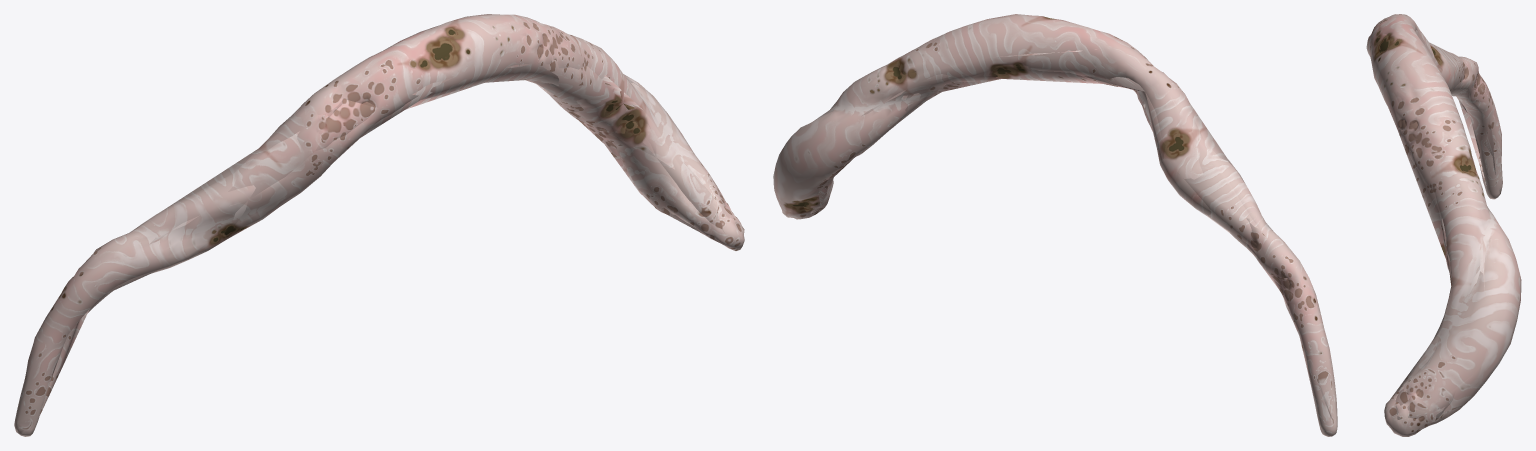
File: rootSmall.FBX
3 views of the same model, side by side, from view 1: azimuth 30°, elevation 25°; view 2: azimuth 150°, elevation 25°; view 3: azimuth 270°, elevation 25° (orthographic). The views are drawn at different scales.
Parts seen in each view (by area): view 1: root_smal_LOD0, root_smal_COL; view 2: root_smal_LOD0, root_smal_COL; view 3: root_smal_LOD0, root_smal_COL.
Part boxes in pixels (<box>): root_smal_LOD0: <box>14,14,744,436</box>; root_smal_COL: <box>38,19,744,418</box>; root_smal_LOD0: <box>773,14,1337,436</box>; root_smal_COL: <box>804,16,1331,418</box>; root_smal_LOD0: <box>1366,14,1521,436</box>; root_smal_COL: <box>1370,15,1495,434</box>.
Size of what is drawn, in the model's own units: 4.93 by 2.46 by 1.07.
